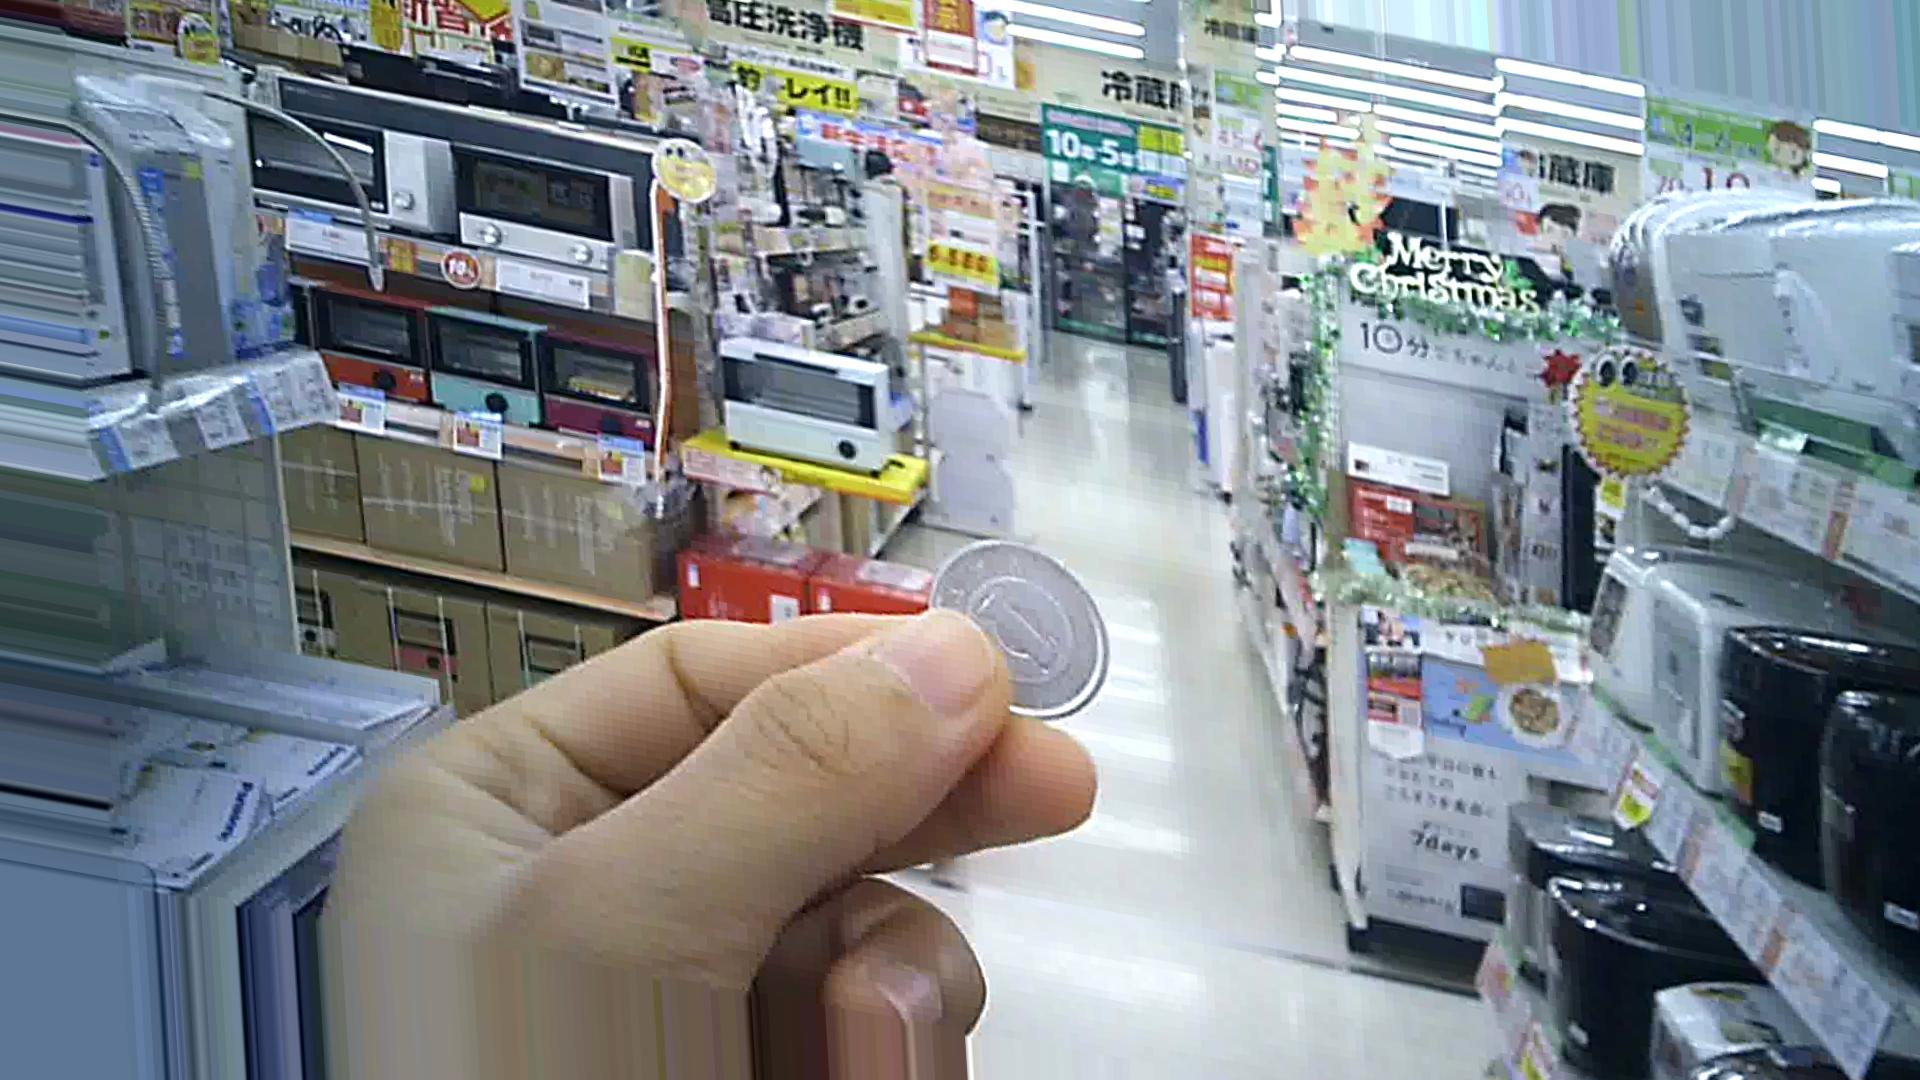1 Yen: (928, 537, 1120, 735)
